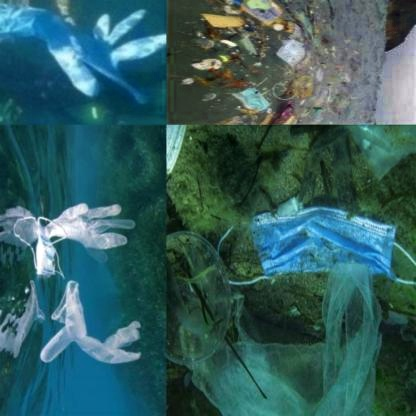Mask: (213, 206, 416, 294), (31, 220, 66, 285), (226, 86, 275, 112)
glove: (1, 2, 165, 105), (36, 278, 143, 374), (58, 199, 138, 266)
